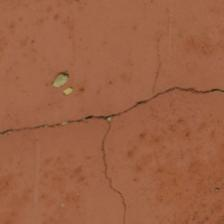Crack: (57, 7, 171, 120), (0, 158, 194, 185), (20, 3, 49, 109)
